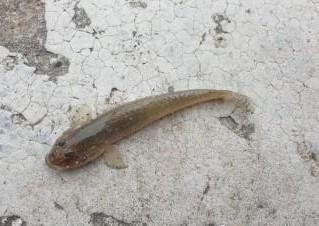fish: (45, 89, 253, 170)
